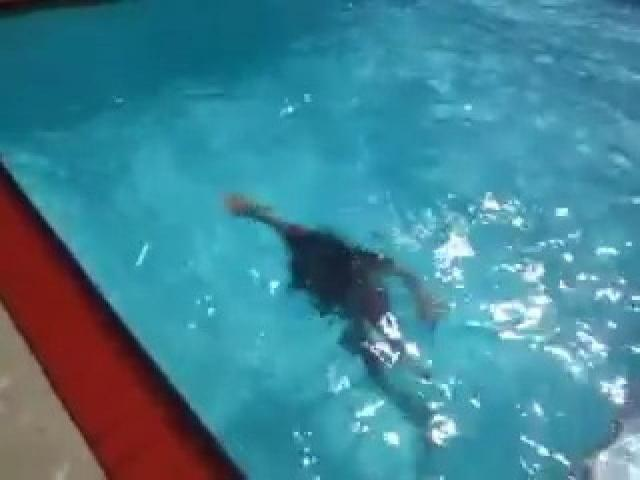drowning: (222, 177, 443, 412)
